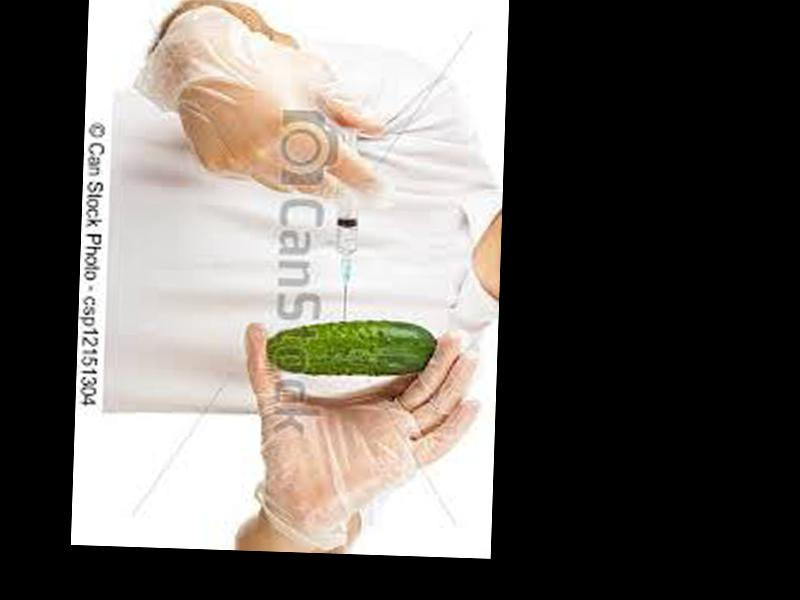Cucumber: (267, 319, 441, 381)
